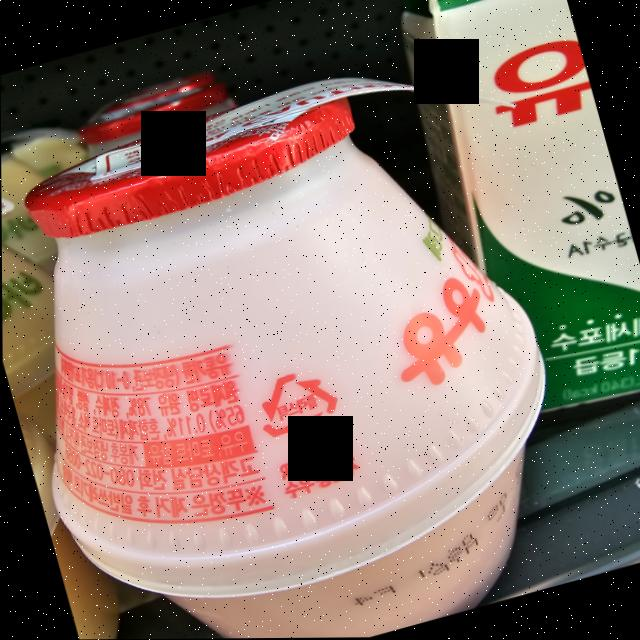Plastic: (247, 359, 348, 446)
